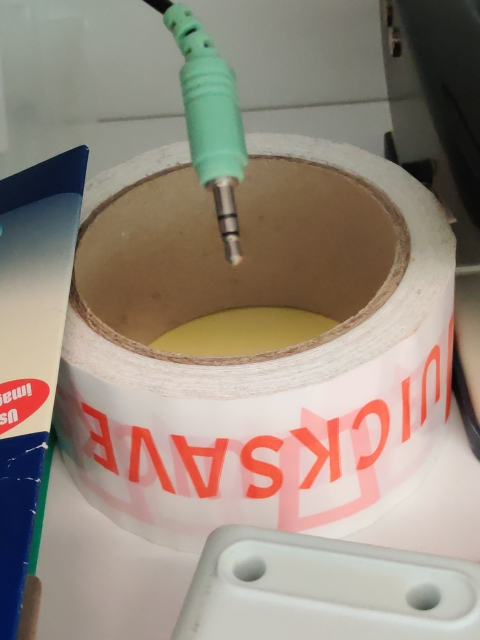3.5mm_audio: (208, 178, 245, 267)
